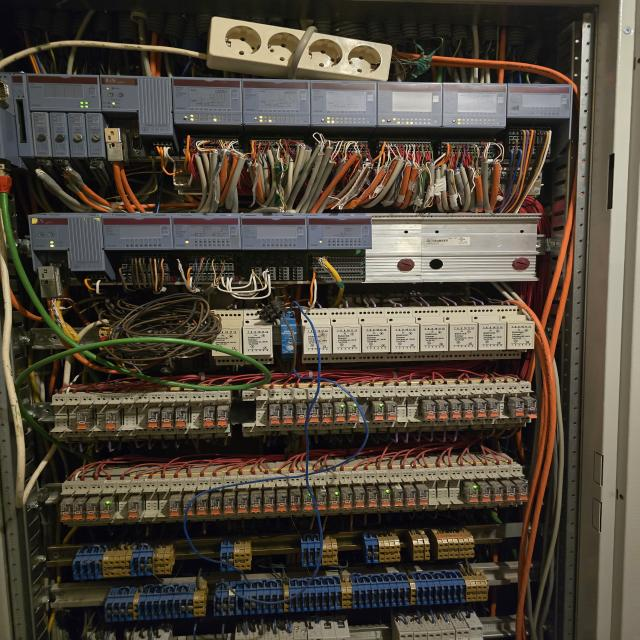Dimmer: (494, 307, 535, 360), (466, 307, 507, 359), (439, 307, 478, 360), (412, 307, 450, 360), (384, 308, 420, 361), (356, 308, 390, 362), (213, 309, 244, 366), (330, 308, 360, 362), (301, 309, 331, 362), (245, 310, 272, 364), (278, 309, 299, 356)
Relais: (100, 497, 117, 520), (128, 494, 144, 518), (462, 481, 478, 505), (76, 409, 93, 430), (523, 397, 539, 419), (508, 397, 524, 418), (85, 497, 99, 521), (168, 493, 181, 518), (421, 400, 436, 421), (320, 402, 333, 426), (106, 408, 120, 430), (175, 406, 189, 428), (201, 406, 215, 428), (216, 406, 230, 428), (371, 400, 385, 422), (478, 482, 492, 504), (303, 488, 315, 513), (263, 491, 276, 514), (436, 400, 450, 421), (196, 492, 208, 516), (462, 399, 475, 421), (486, 398, 499, 420), (60, 498, 72, 521), (316, 489, 328, 512), (366, 486, 378, 509), (492, 481, 504, 504), (449, 399, 462, 420), (148, 407, 160, 429), (269, 403, 281, 425), (282, 404, 294, 426), (334, 402, 346, 424), (386, 400, 398, 422), (73, 498, 85, 520), (183, 493, 194, 517), (211, 492, 222, 516), (237, 492, 249, 514), (504, 480, 516, 502), (516, 480, 528, 502), (290, 489, 301, 512), (308, 403, 320, 424), (347, 402, 359, 423), (250, 492, 262, 513), (162, 407, 173, 429), (224, 493, 235, 515), (277, 490, 288, 512), (405, 485, 416, 507), (417, 484, 428, 506), (392, 486, 403, 507), (330, 488, 340, 511), (342, 488, 352, 511), (296, 403, 306, 425), (355, 487, 365, 509), (380, 486, 390, 508), (476, 400, 486, 420)
SPS-System -Steuerungskomponente-: (242, 78, 309, 126), (172, 77, 240, 124), (311, 80, 378, 126), (380, 81, 441, 126), (444, 82, 506, 126), (28, 215, 103, 251), (26, 74, 101, 109), (101, 75, 172, 110), (104, 215, 172, 249), (173, 215, 240, 249), (509, 83, 572, 119), (240, 215, 306, 248), (309, 216, 371, 250)
Schaltkasten: (11, 68, 620, 638)
Verbinder: (213, 569, 489, 615), (105, 583, 205, 621), (72, 547, 174, 579), (434, 532, 476, 560), (363, 535, 402, 564), (219, 538, 253, 571), (300, 540, 338, 566), (408, 532, 431, 562)
